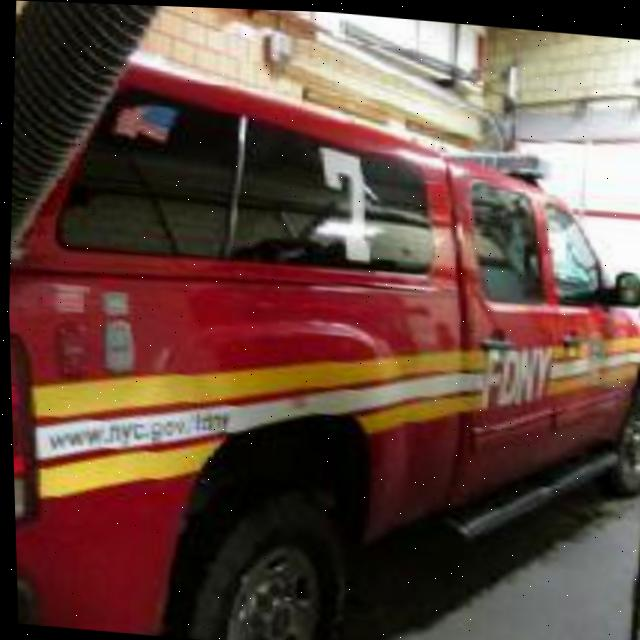emergency: (1, 28, 640, 640)
